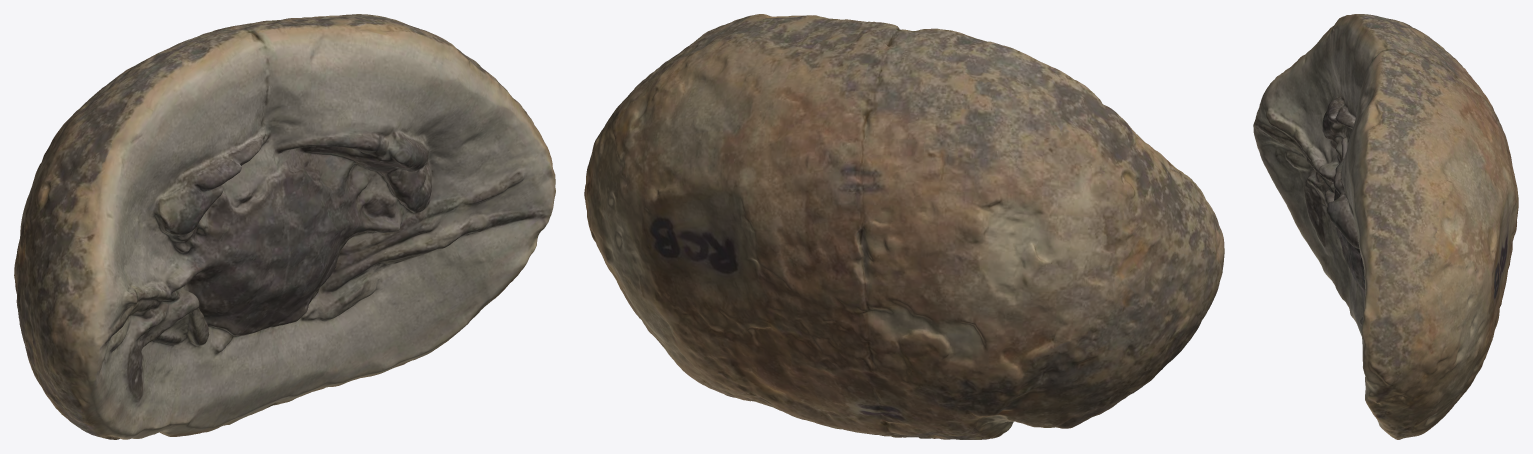
3 views of the same model, side by side, from view 1: azimuth 30°, elevation 25°; view 2: azimuth 150°, elevation 25°; view 3: azimuth 270°, elevation 25° (orthographic). The views are drawn at different scales.
Visible parts, largest first — view 1: Megokkos_macrospinus_Schweitzer_et_al-__2000-unwrapped-webmu; view 2: Megokkos_macrospinus_Schweitzer_et_al-__2000-unwrapped-webmu; view 3: Megokkos_macrospinus_Schweitzer_et_al-__2000-unwrapped-webmu.
Part boxes in pixels (box(x1,y1,x2,y2)): Megokkos_macrospinus_Schweitzer_et_al-__2000-unwrapped-webmu: box(14, 14, 555, 439); Megokkos_macrospinus_Schweitzer_et_al-__2000-unwrapped-webmu: box(584, 14, 1224, 439); Megokkos_macrospinus_Schweitzer_et_al-__2000-unwrapped-webmu: box(1253, 14, 1518, 439).
Size of the model in its own units: 4915 by 3337 by 2425.
Materials: 1 (1 with a texture image).
